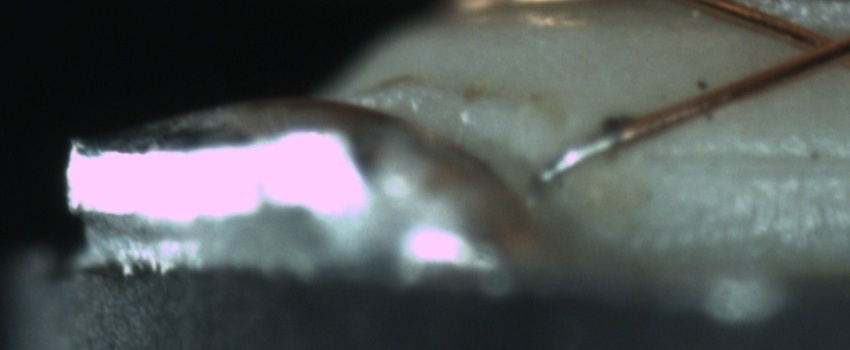CL: (778, 16, 849, 74)
DL: (665, 124, 849, 189)
TS: (532, 128, 620, 183)
TTCW: (533, 115, 652, 186)
